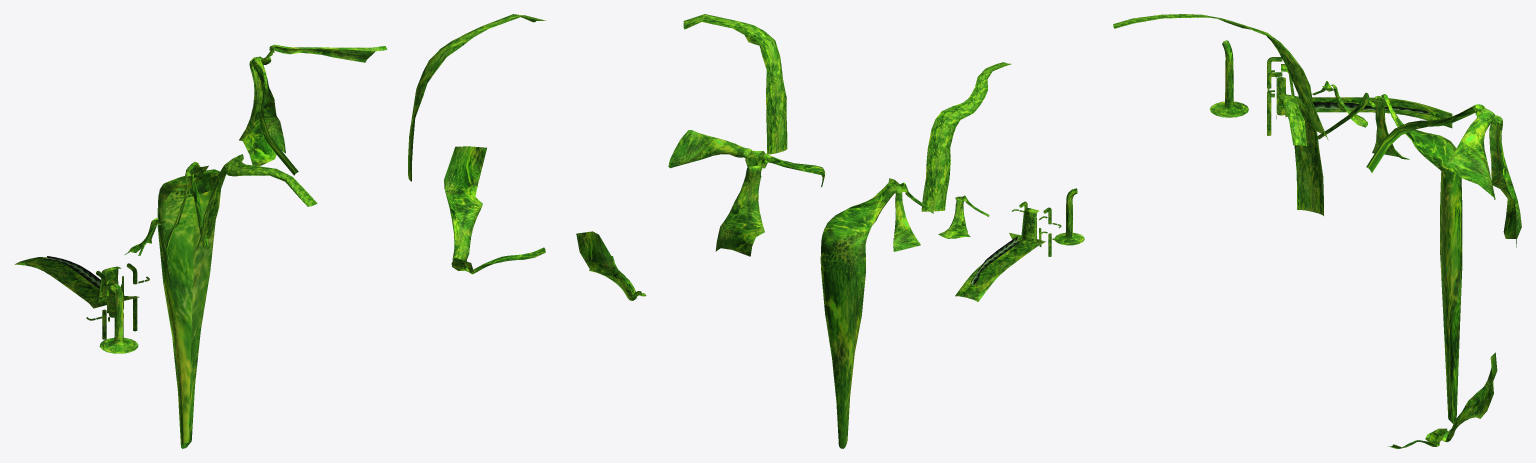
Rendered from stg610_MotLiquid_32.obj.
The picture shows the model from 3 angles, left to right: view 1: azimuth 30°, elevation 25°; view 2: azimuth 150°, elevation 25°; view 3: azimuth 270°, elevation 25°; orthographic projection. The views are drawn at different scales.
Visible parts, largest first — view 1: polygon3, polygon22, polygon24, polygon4, polygon5, polygon25, polygon1, polygon20; view 2: polygon3, polygon22, polygon4, polygon5, polygon25, polygon24, polygon20, polygon18, polygon1; view 3: polygon3, polygon22, polygon5, polygon4, polygon24, polygon25, polygon1, polygon20, polygon0.
Part boxes in pixels (x1,y1,x2,y2): polygon3: (157,162,219,448); polygon22: (239,44,387,175); polygon24: (444,146,545,274); polygon4: (196,154,317,249); polygon5: (408,14,545,181); polygon25: (14,257,139,308); polygon1: (99,283,138,353); polygon20: (163,171,208,249); polygon3: (820,182,895,448); polygon22: (668,130,825,256); polygon4: (921,62,1011,211); polygon5: (683,14,787,154); polygon25: (955,233,1045,301); polygon24: (576,231,641,300); polygon20: (893,182,933,251); polygon18: (938,195,989,238); polygon1: (1054,188,1084,245); polygon3: (1381,94,1462,423); polygon22: (1366,104,1521,247); polygon5: (1276,94,1323,215); polygon4: (1113,14,1328,140); polygon24: (1388,352,1497,448); polygon25: (1285,94,1452,128); polygon1: (1210,40,1248,117); polygon20: (1317,92,1409,159); polygon0: (1313,102,1428,113).
Size of the model in its own units: 5398 by 4243 by 3620.
Materials: 3 (3 with a texture image).
